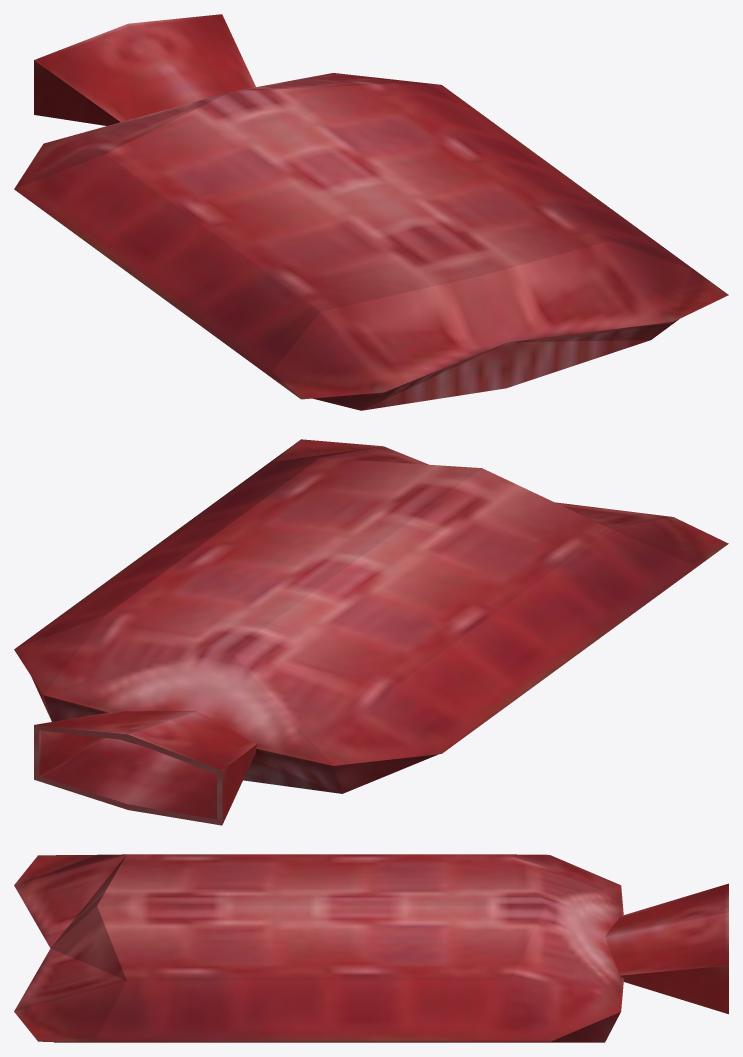
The model's file is HotWaterBottle01.obj.
3 views of the same model, one above another, from view 1: azimuth 30°, elevation 25°; view 2: azimuth 150°, elevation 25°; view 3: azimuth 270°, elevation 25° (orthographic). The views are drawn at different scales.
Parts seen in each view (by area): view 1: HotWaterBottle01; view 2: HotWaterBottle01; view 3: HotWaterBottle01.
Part boxes in pixels (x1=…): HotWaterBottle01: x1=14, y1=14, x2=728, y2=410; HotWaterBottle01: x1=14, y1=439, x2=728, y2=825; HotWaterBottle01: x1=14, y1=854, x2=728, y2=1042.
Bounding box in the file's own units: 0.638 × 0.1356 × 1.03.
